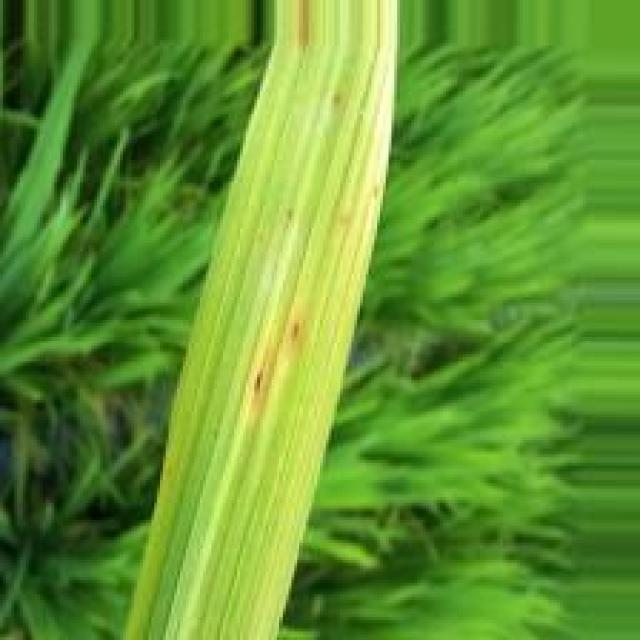Brown_Spot: (245, 370, 271, 403), (288, 319, 302, 348)
